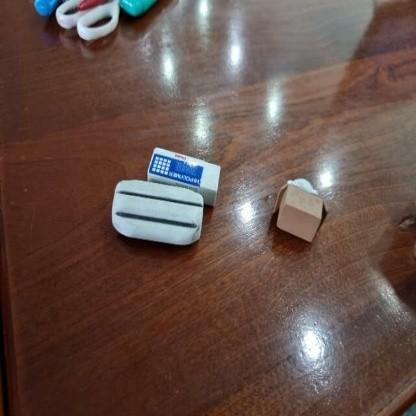not trash: (97, 176, 212, 254), (16, 0, 165, 43), (135, 130, 225, 201), (260, 168, 336, 246)
